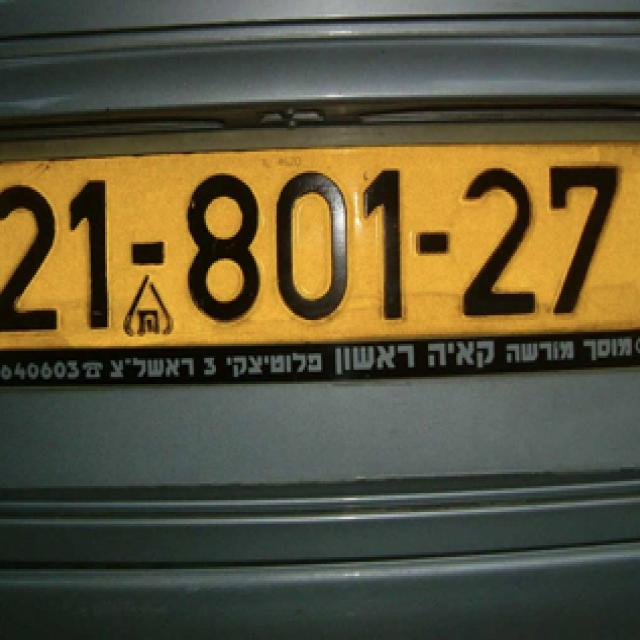license_plate: (0, 171, 640, 332)
